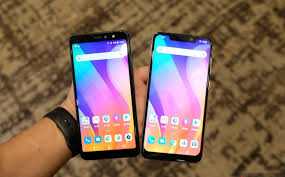vsmart: (67, 29, 141, 163), (139, 30, 213, 164)
